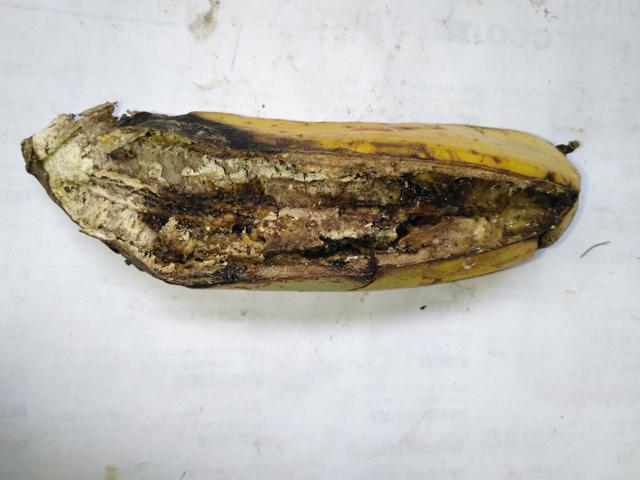rotten: (21, 81, 600, 312)
